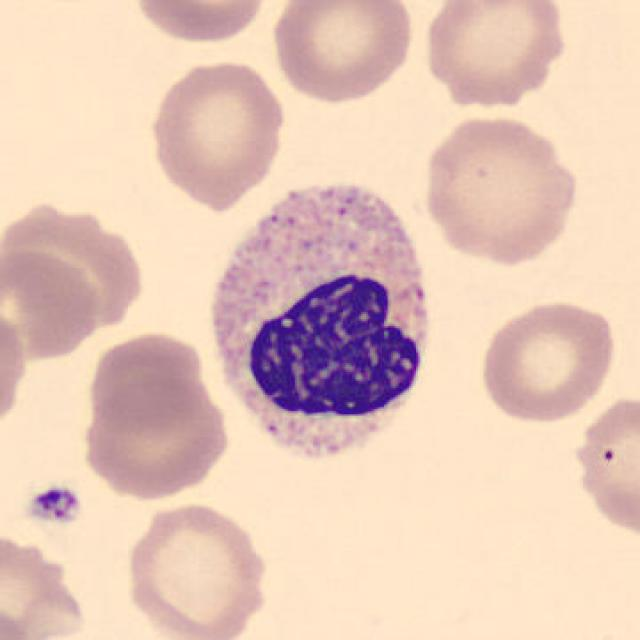Neutrophil: (198, 168, 447, 482)
Platelets: (21, 479, 86, 529)
RBC: (418, 111, 583, 268), (144, 55, 290, 208), (119, 499, 274, 638), (82, 374, 237, 502), (0, 192, 141, 330), (474, 296, 620, 427), (419, 0, 570, 109), (266, 0, 418, 106), (84, 328, 210, 432), (2, 244, 103, 364), (567, 390, 640, 544), (0, 527, 92, 640), (128, 0, 274, 48), (0, 302, 32, 438)
